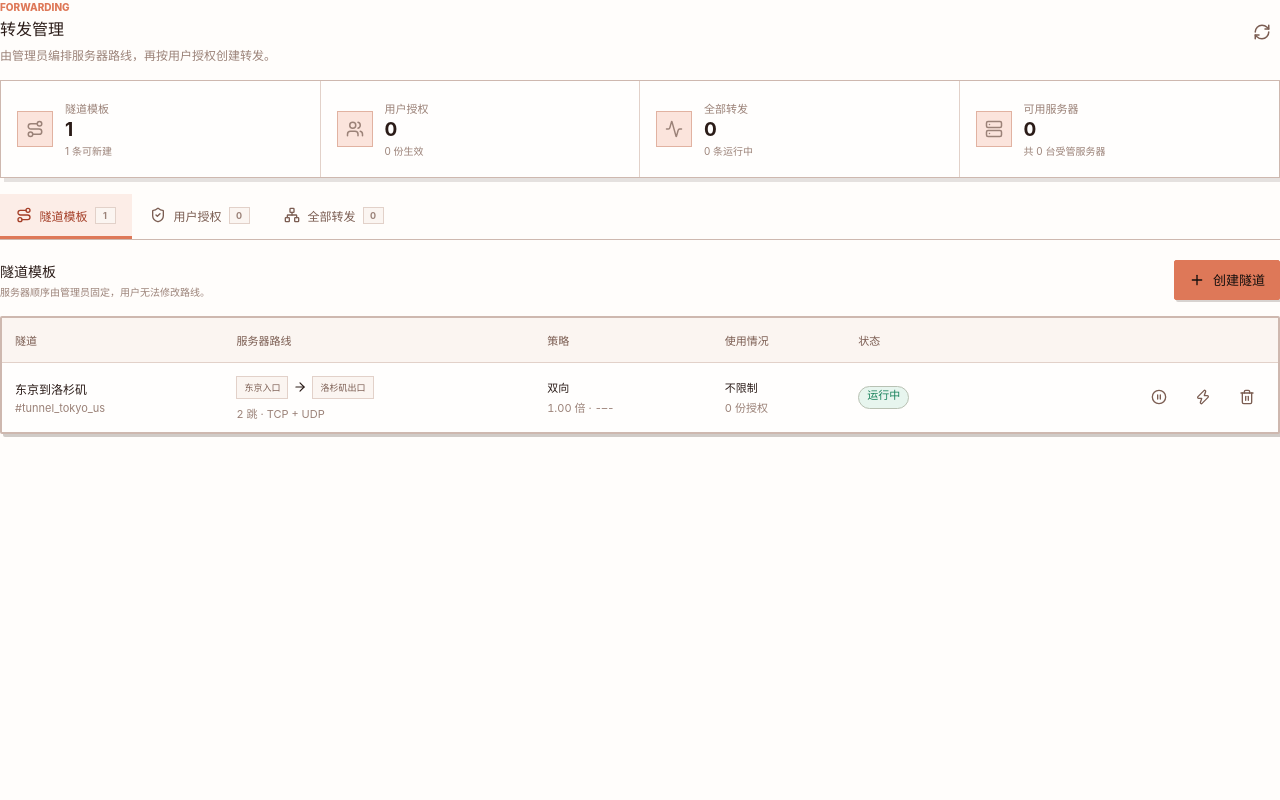
Test case: administrator tunnel composition › only offers custom-mode users when creating a tunnel grant
Expected: the text "不限制" is shown, [725,381,758,395]
Click the tab "用户授权 0" at [200, 216], box [134,194,266,239]
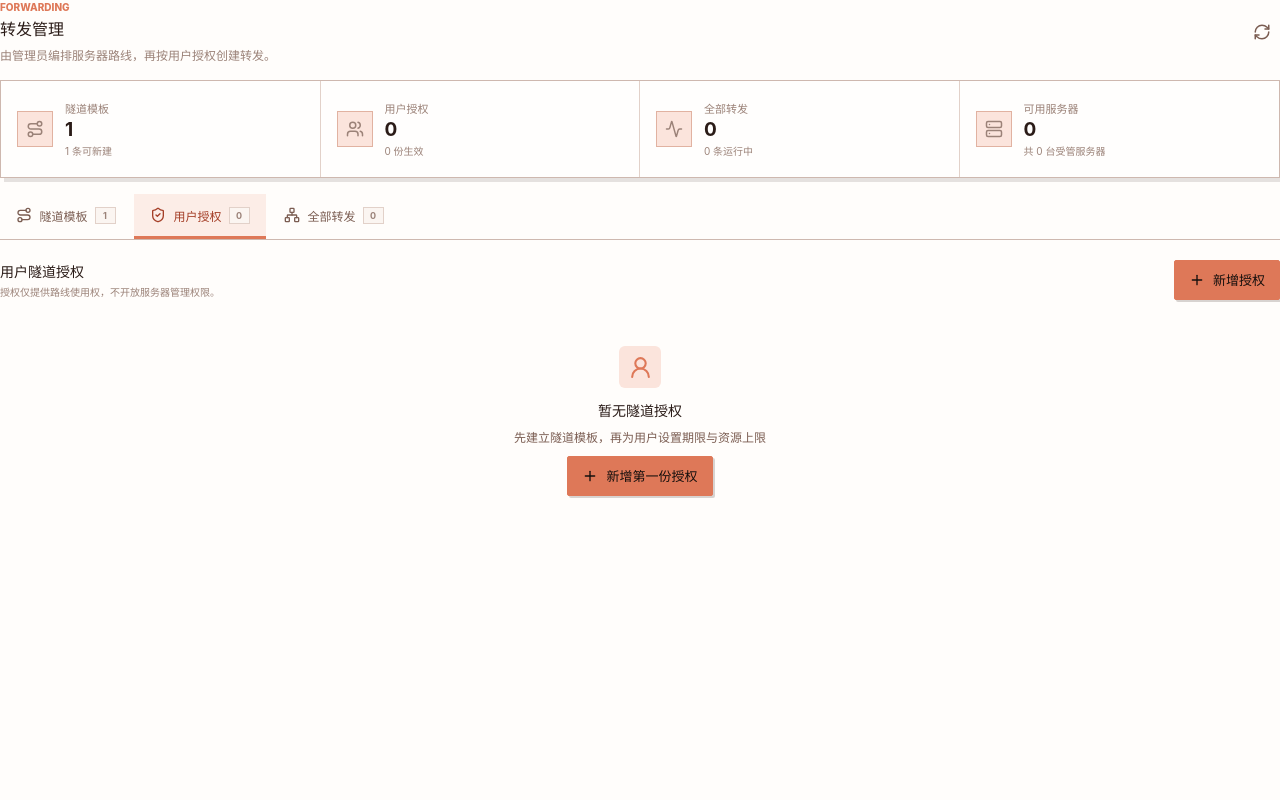
Click the button "新增授权" at [1227, 280], box [1174,260,1279,300]
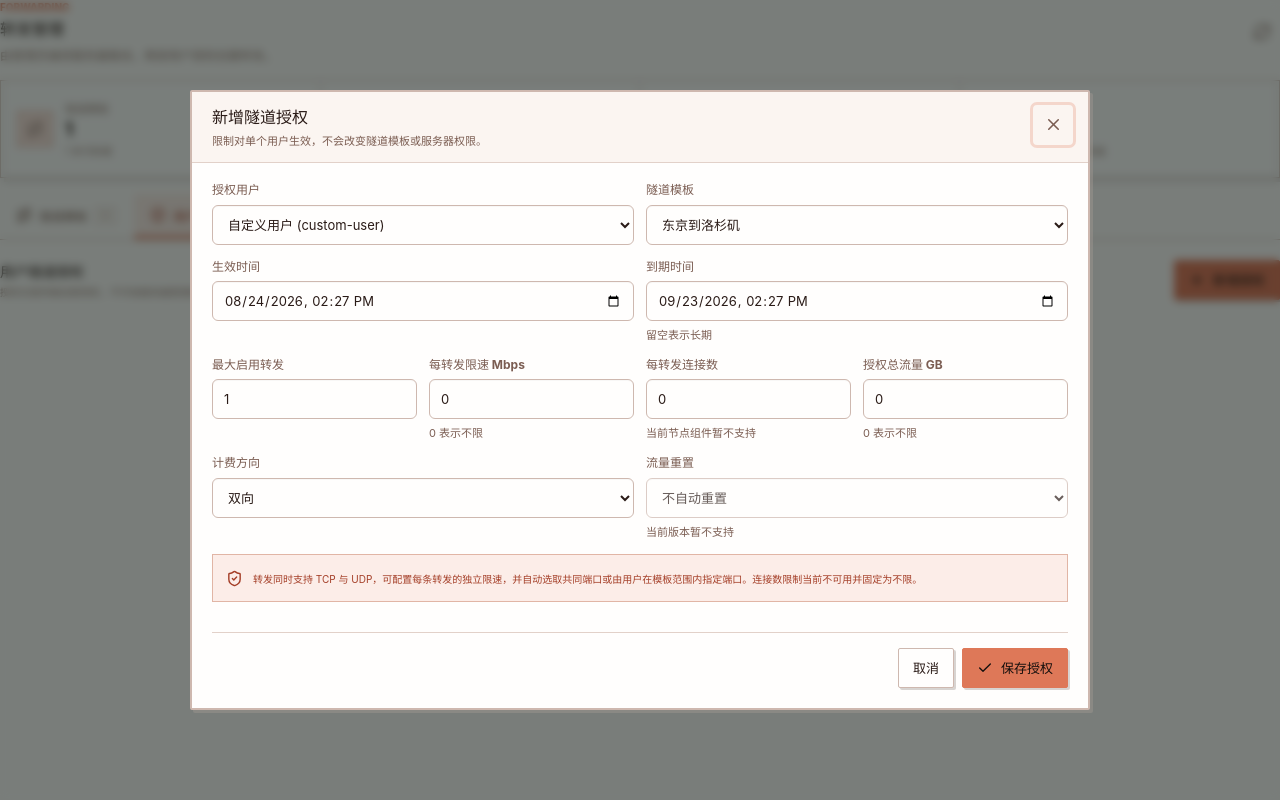
Now the dropdown labelled "授权用户" shows "自定义用户 (custom-user)", box [212,205,634,245]
